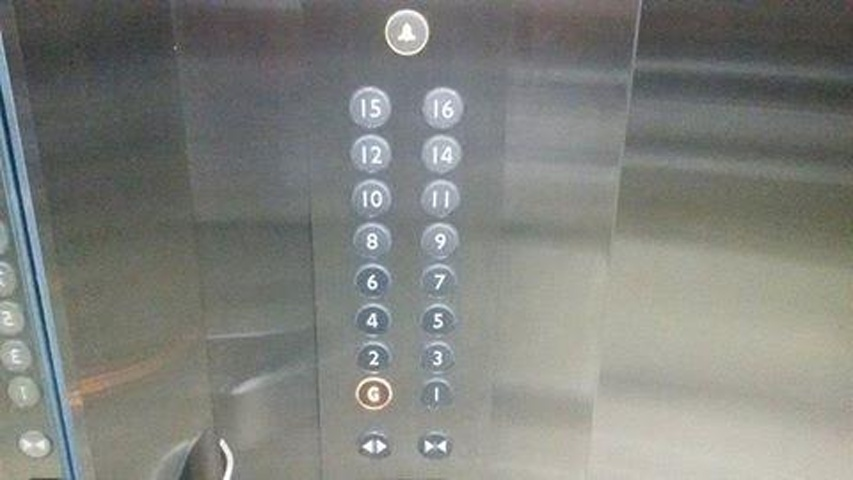1: (418, 379, 453, 414), (7, 377, 42, 410)
10: (349, 179, 394, 219)
11: (418, 179, 460, 220)
12: (347, 133, 392, 176)
14: (419, 133, 462, 174)
15: (347, 86, 391, 130)
16: (421, 86, 465, 131)
2: (354, 341, 394, 374)
3: (417, 341, 454, 376)
4: (353, 302, 392, 338)
5: (418, 303, 457, 337)
6: (353, 263, 392, 301)
7: (418, 263, 456, 299)
8: (350, 221, 393, 261)
9: (420, 221, 459, 261)
G: (354, 374, 395, 411)
alarm: (384, 8, 430, 57)
close: (17, 430, 55, 461), (417, 428, 454, 459)
open: (356, 429, 393, 460)
unknown: (1, 339, 35, 374), (1, 298, 27, 337)
